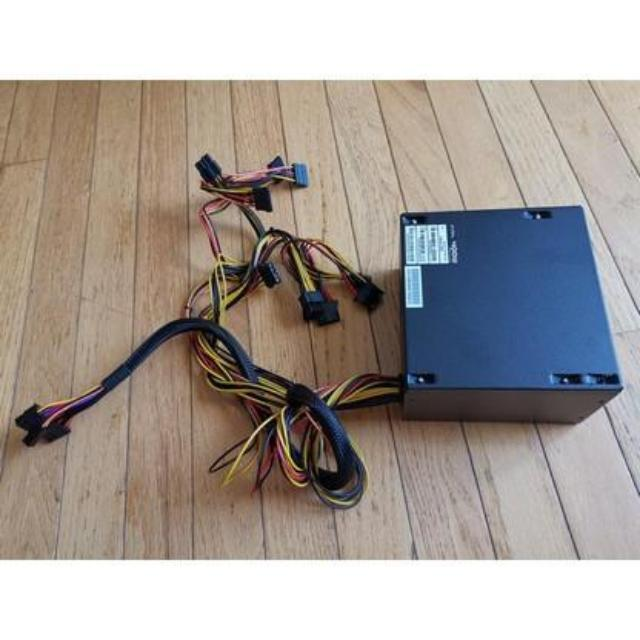PSU: (386, 190, 626, 430)
